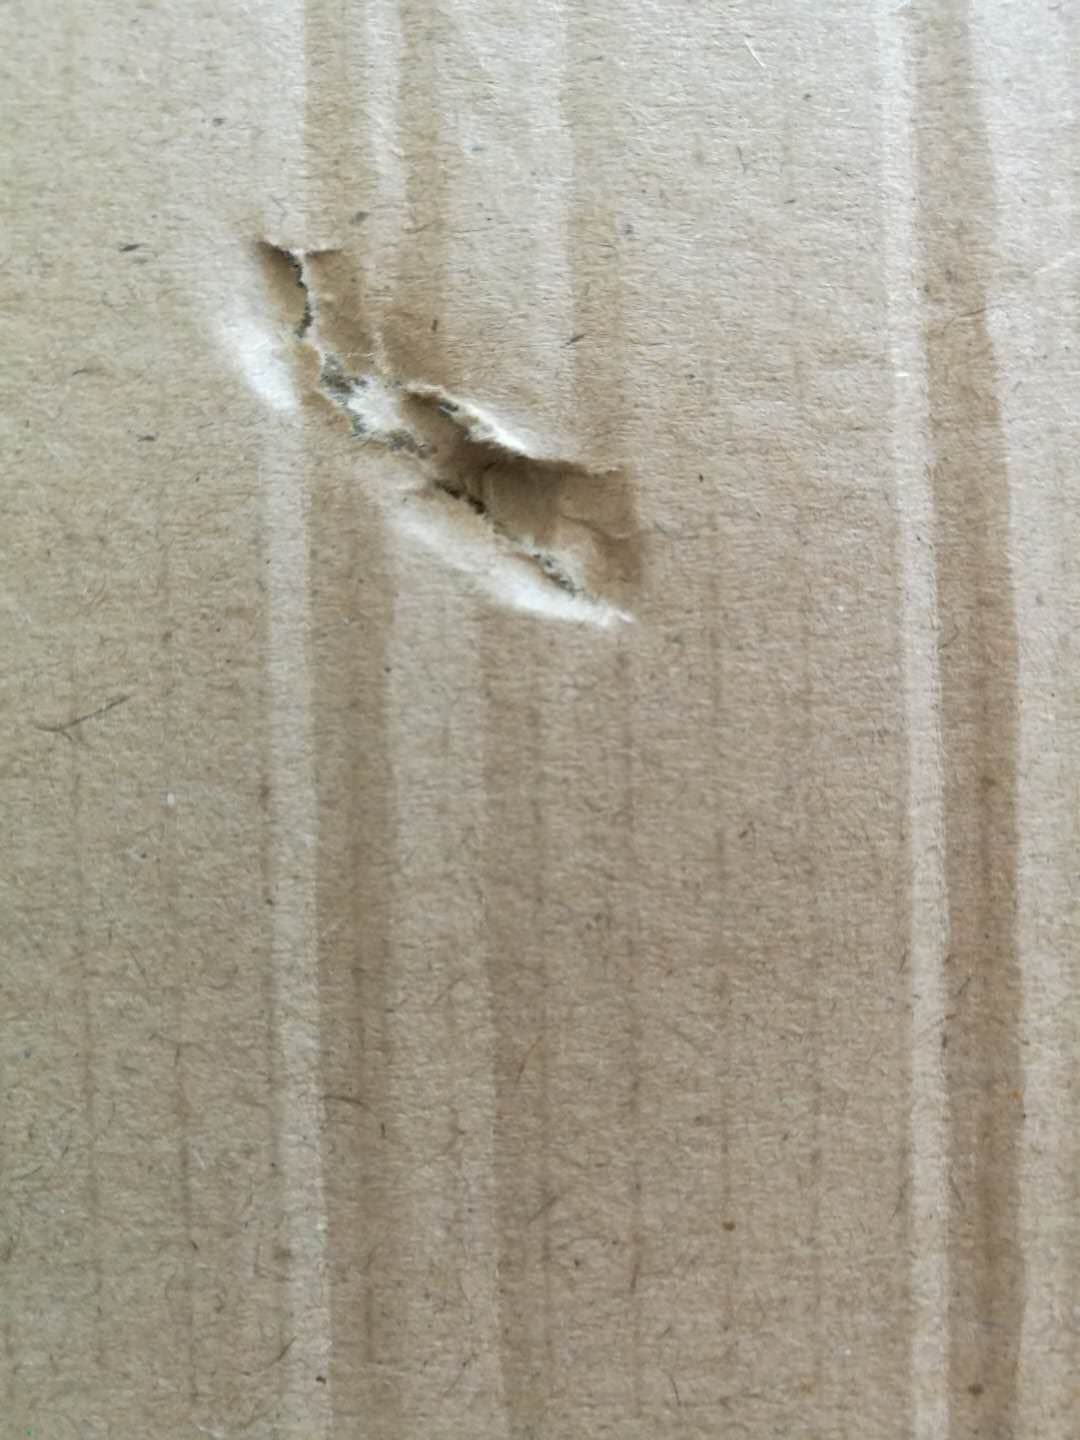defect: (245, 2, 686, 1440), (826, 1, 1080, 1440), (154, 187, 725, 681)
